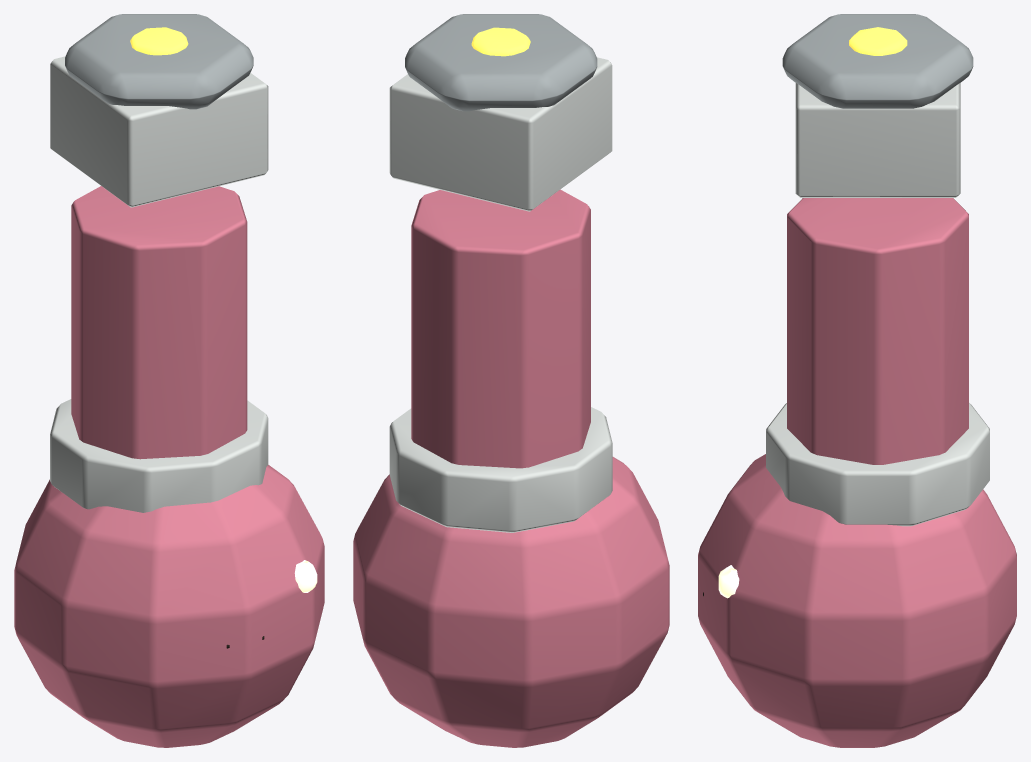
Rendered from pocketful_arm_weefist.glb.
3 renders of one model, left to right at view 1: azimuth 30°, elevation 25°; view 2: azimuth 150°, elevation 25°; view 3: azimuth 270°, elevation 25°, orthographic. The views are drawn at different scales.
Visible parts, largest first — view 1: pocketful_arm_weefist; view 2: pocketful_arm_weefist; view 3: pocketful_arm_weefist.
Boxes of the visible parts, bbox=[...] form: pocketful_arm_weefist: bbox=[14, 14, 324, 747]; pocketful_arm_weefist: bbox=[353, 14, 669, 747]; pocketful_arm_weefist: bbox=[698, 14, 1016, 747].
Bounding box in the file's own units: 0.2967 × 0.7425 × 0.3092.
1 material, 1 textured.
